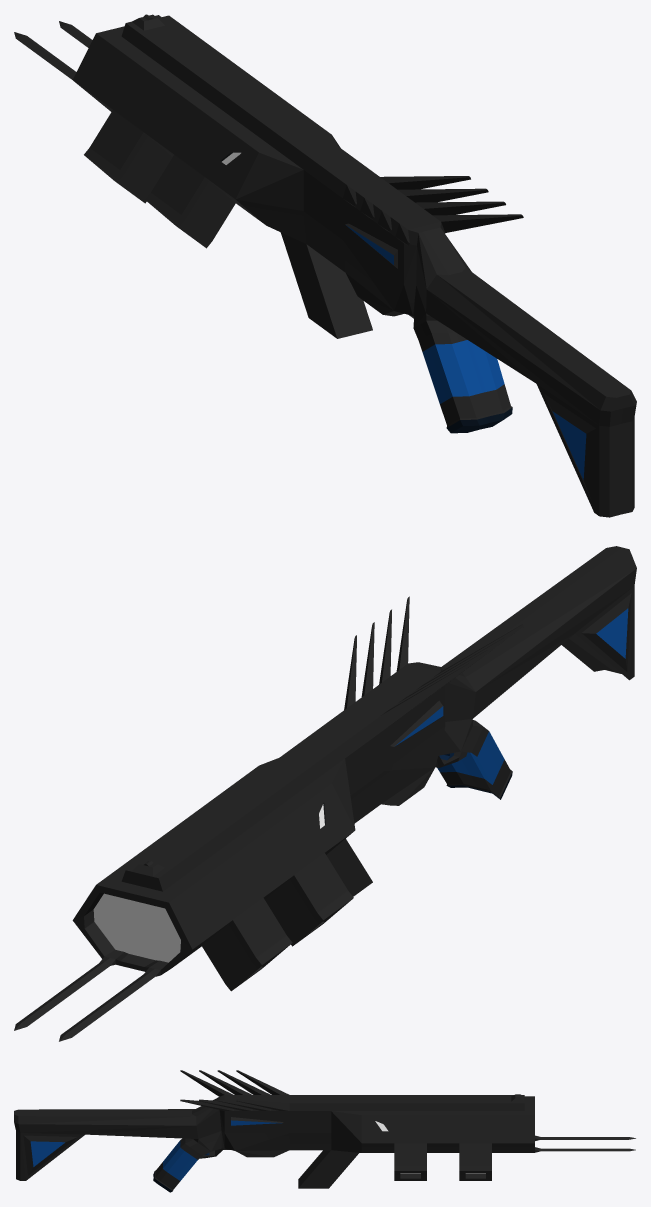
File: Plasma_Shotgun_mk_3.fbx
3 views of the same model, one above another, from view 1: azimuth 30°, elevation 25°; view 2: azimuth 150°, elevation 25°; view 3: azimuth 270°, elevation 25° (orthographic). The views are drawn at different scales.
Parts seen in each view (by area): view 1: Shotgun_mk_3; view 2: Shotgun_mk_3; view 3: Shotgun_mk_3.
Part boxes in pixels (bbox=[...]): Shotgun_mk_3: bbox=[14, 14, 636, 517]; Shotgun_mk_3: bbox=[14, 546, 636, 1041]; Shotgun_mk_3: bbox=[14, 1070, 635, 1192].
Size of the model in its own units: 145 by 25.44 by 26.
